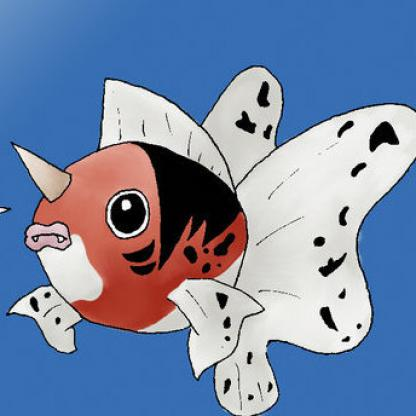Seaking: (20, 49, 416, 416)
